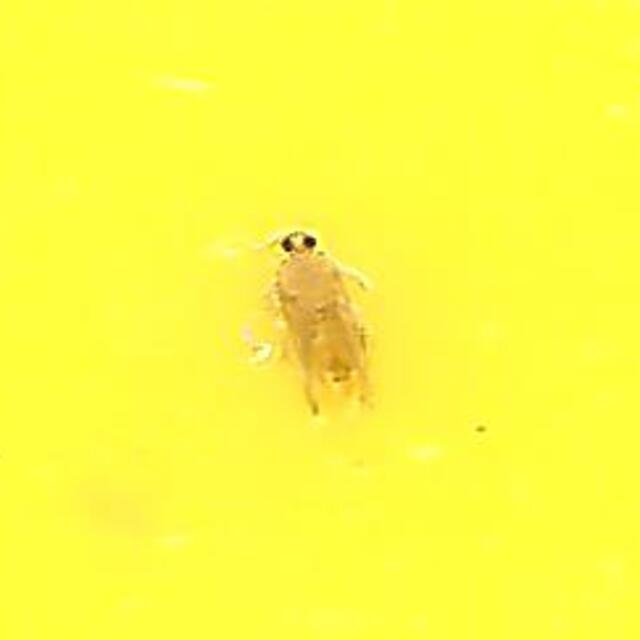Trichoptera: (263, 225, 377, 415)
